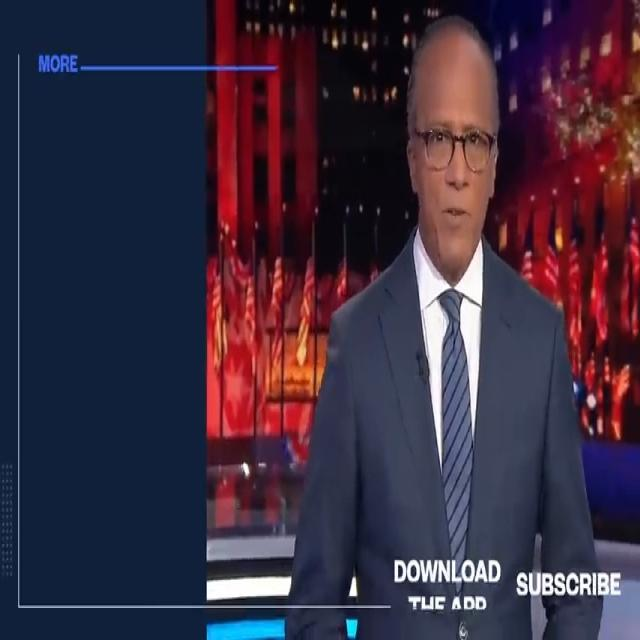non-fight: (281, 13, 606, 640)
